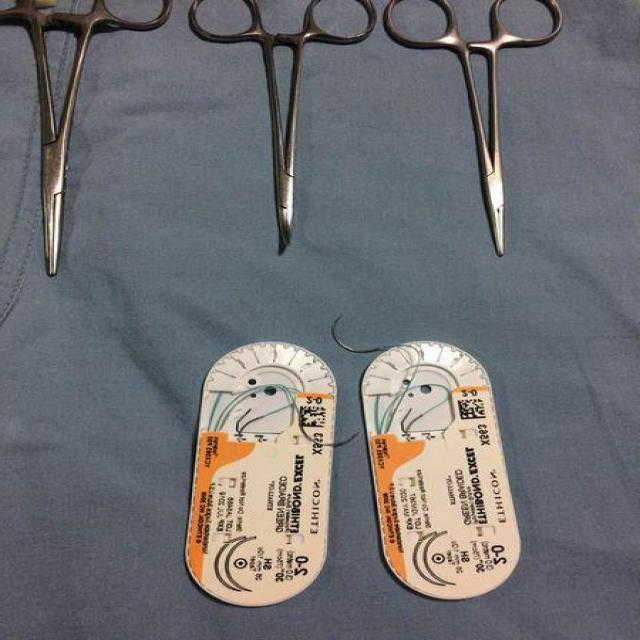Hemostat: (184, 1, 378, 252), (379, 0, 566, 260), (1, 0, 174, 279)
Needle: (328, 312, 379, 356), (297, 416, 360, 448), (238, 414, 264, 436), (406, 415, 422, 432)
